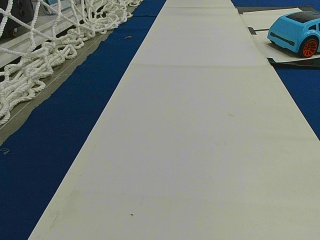car: (267, 10, 319, 56)
